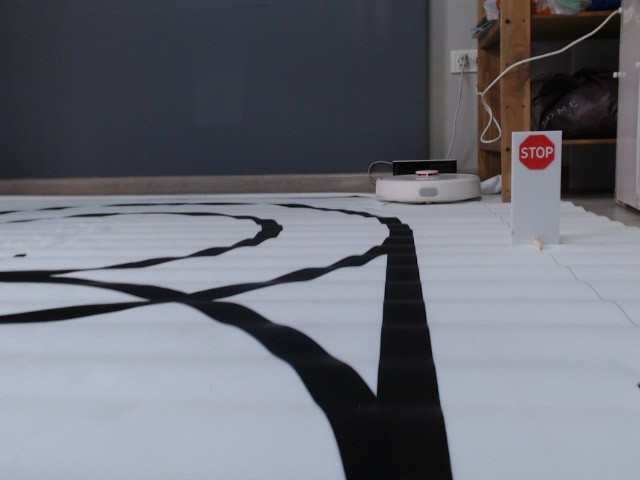Stop: (517, 134, 555, 172)
